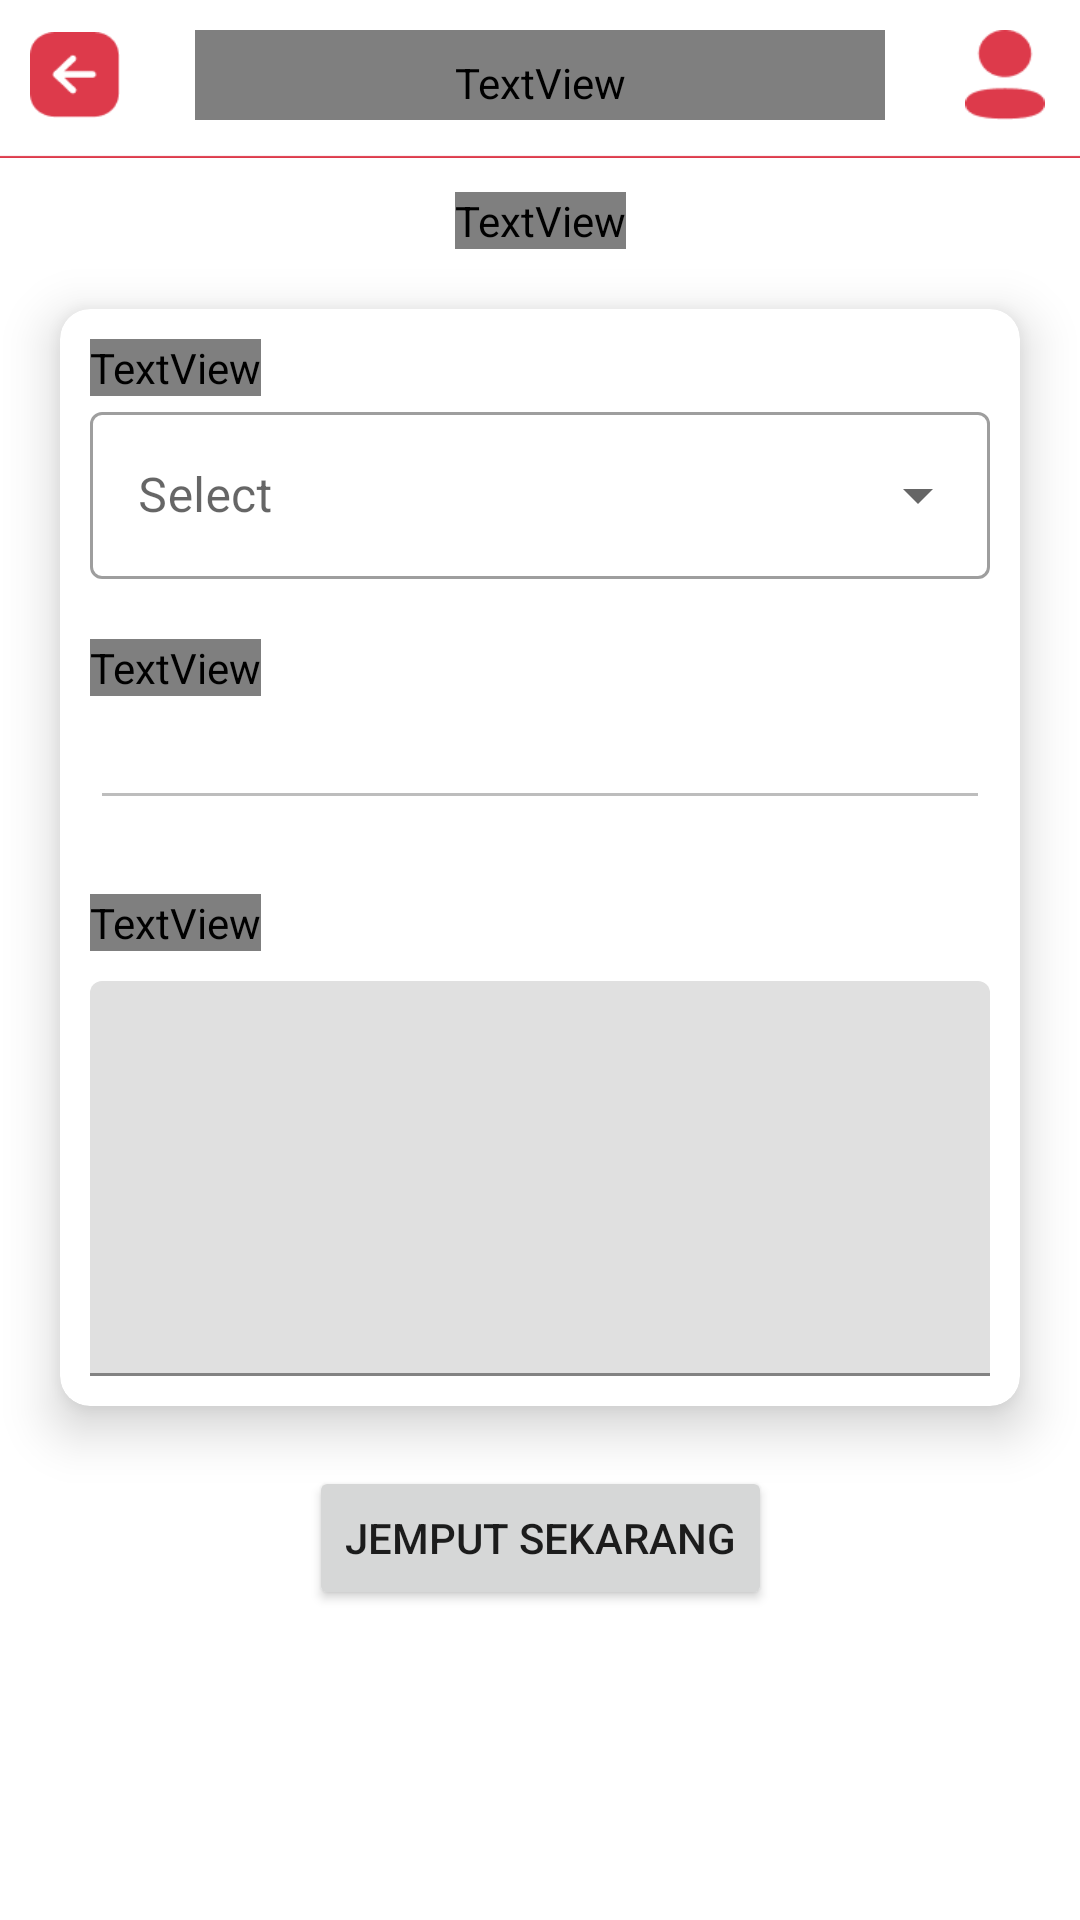

Icon click points for this 1080px x 1920px phone screenshot, format point (x, y):
iconback: point (74, 75)
iconprofile: point (1005, 75)
